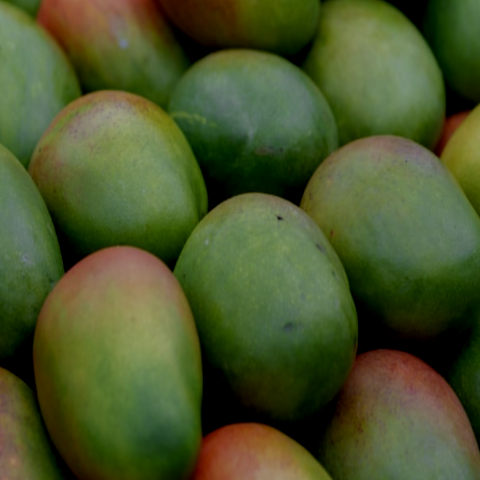mango: (155, 187, 372, 424), (17, 241, 223, 480), (298, 115, 480, 371), (157, 22, 348, 202)
